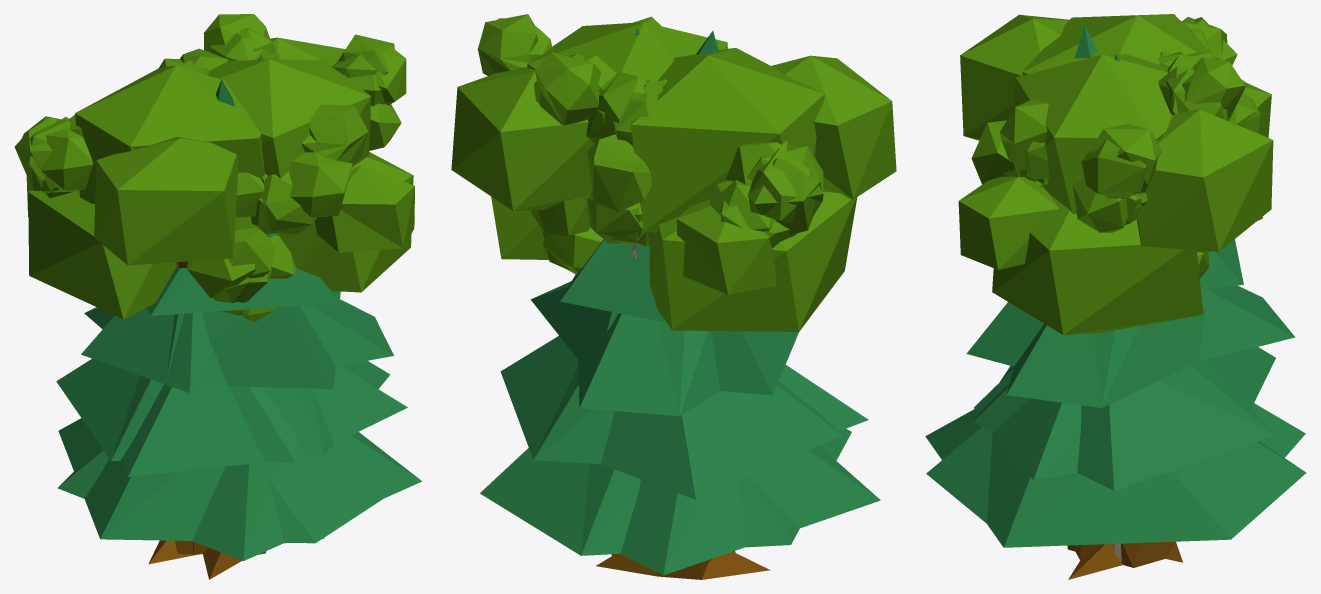
The model's file is trees.glb.
3 renders of one model, left to right at view 1: azimuth 30°, elevation 25°; view 2: azimuth 150°, elevation 25°; view 3: azimuth 270°, elevation 25°, orthographic. The views are drawn at different scales.
Visible parts, largest first — view 1: tree_0, tree_1, tree_2, tree_3, tree_4; view 2: tree_1, tree_2, tree_3, tree_0, tree_4; view 3: tree_1, tree_3, tree_0, tree_2, tree_4.
Boxes of the visible parts, x1,y1,x2,y2 form: tree_0: (58, 79, 393, 554); tree_1: (56, 55, 422, 560); tree_2: (26, 65, 413, 564); tree_3: (28, 37, 414, 579); tree_4: (14, 14, 406, 322); tree_1: (480, 28, 851, 562); tree_2: (491, 48, 896, 579); tree_3: (451, 22, 857, 331); tree_0: (500, 31, 880, 575); tree_4: (477, 14, 823, 274); tree_1: (925, 54, 1306, 547); tree_3: (958, 54, 1273, 579); tree_0: (926, 26, 1305, 567); tree_2: (960, 14, 1271, 562); tree_4: (971, 17, 1260, 561).
Size of the model in its own units: 0.7436 by 1 by 0.6847.
